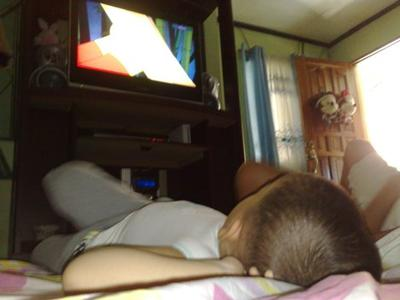person: (33, 159, 362, 297)
